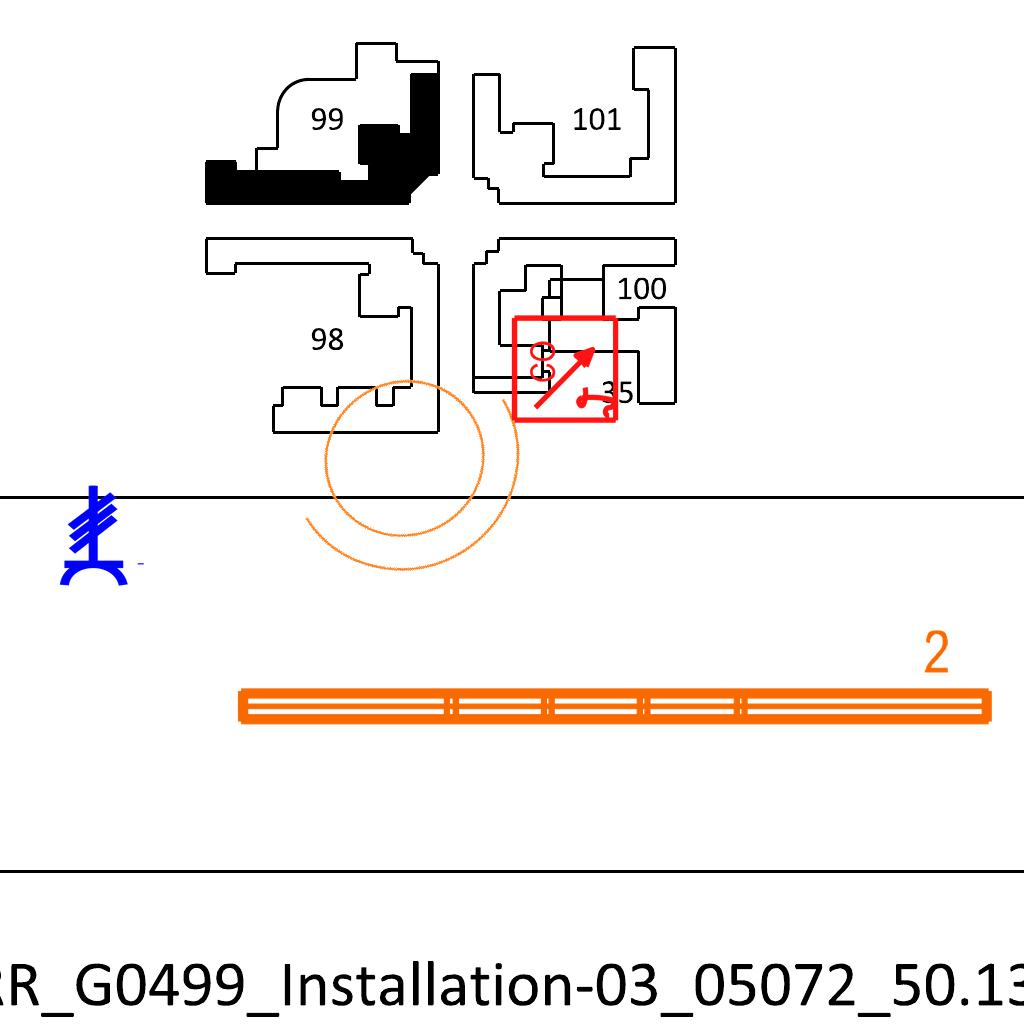Ambulanz_Pendelleuchte_LED: (227, 625, 1001, 737)
CEE_Drehstrom_Steckdose_16_32_A: (57, 484, 147, 588)
ROA_Rauchmelder_optisch_mit_Signalgeber_(Sockelsirene): (510, 312, 623, 425)
Scheinwerfer_fuer_Alarmbeleuchtung: (243, 299, 587, 628)
